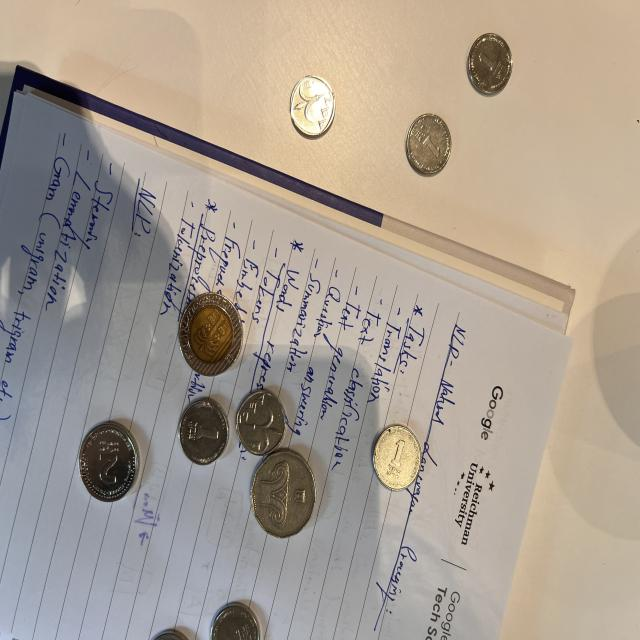1-shekel: (372, 420, 423, 499), (235, 388, 290, 457), (408, 112, 454, 183), (290, 75, 336, 141), (467, 34, 511, 95)
10-shekel: (247, 448, 320, 539), (179, 290, 246, 377), (179, 391, 232, 468)
2-shekel: (79, 419, 140, 505)
